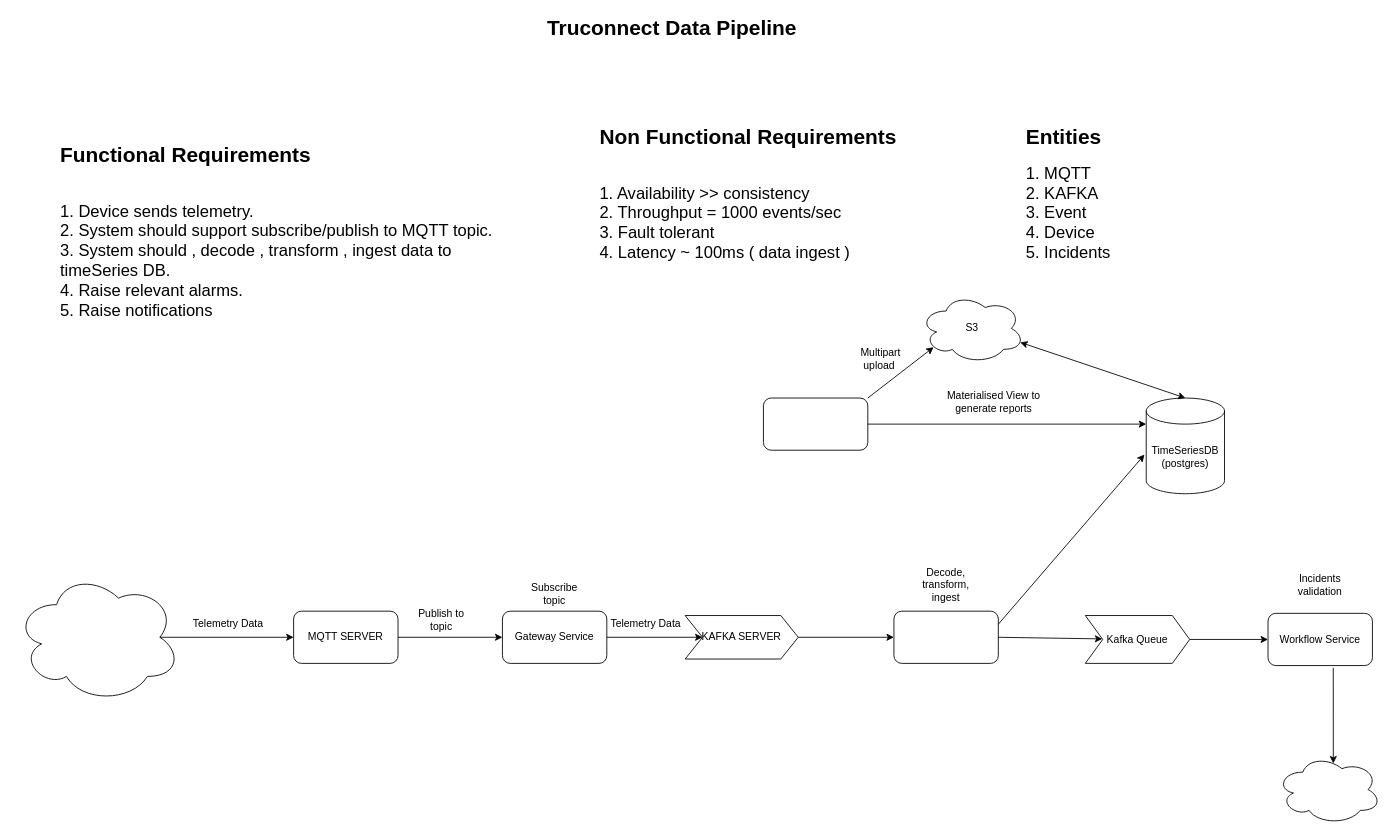
Image size: 1396x840. Some labels were removed from this diagram. Each missing label, with the centre of its shape:
"Data ingestion service" goes at (x=945, y=636).
"IOT Devices" goes at (x=97, y=637).
"Report Service" goes at (x=815, y=423).
"SMTP Server" goes at (x=1328, y=789).
